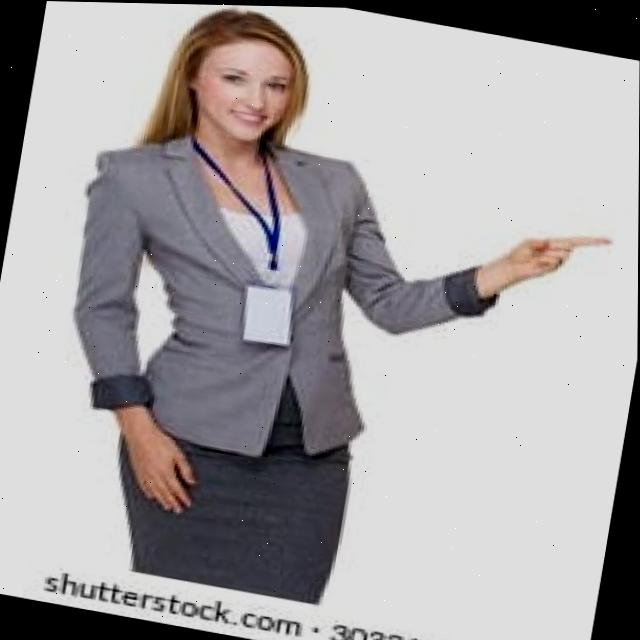id_card: (158, 124, 325, 351)
